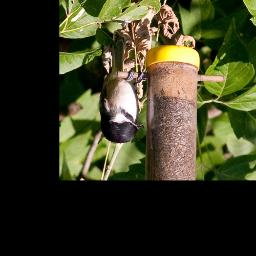Swallow: (98, 65, 147, 146)
